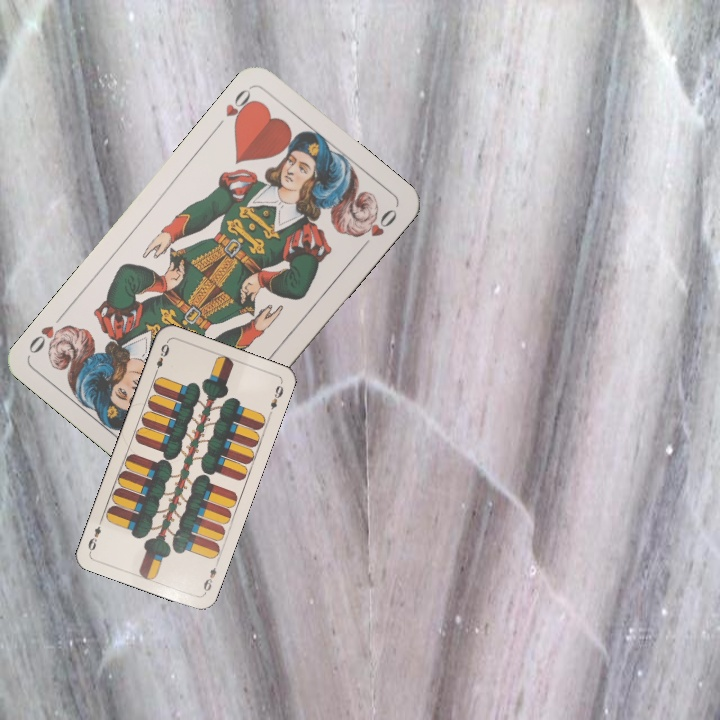E9: (199, 557, 221, 596), (150, 340, 172, 377)
HO: (211, 84, 259, 133)
